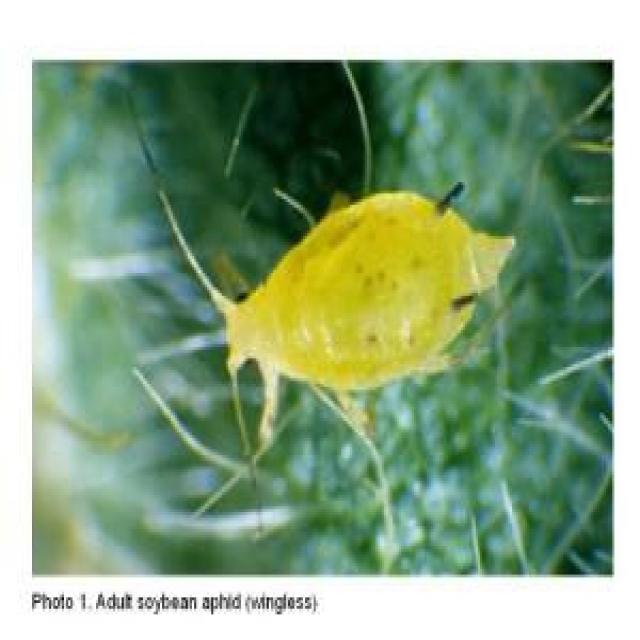Aphid-Grown-: (144, 130, 541, 461)
